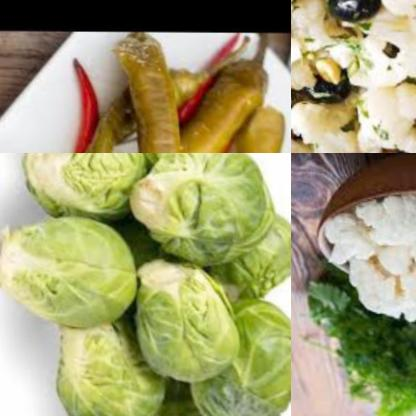brus capusta: (4, 273, 163, 416), (0, 182, 151, 326), (113, 153, 282, 256), (160, 290, 291, 416), (137, 264, 244, 368), (15, 153, 170, 212), (241, 218, 291, 293)
cayliflower: (316, 190, 416, 333), (291, 90, 416, 153), (367, 0, 416, 131), (291, 0, 343, 91)
hot pepper: (0, 66, 280, 153), (87, 30, 201, 153), (38, 64, 120, 153), (156, 100, 291, 153)
